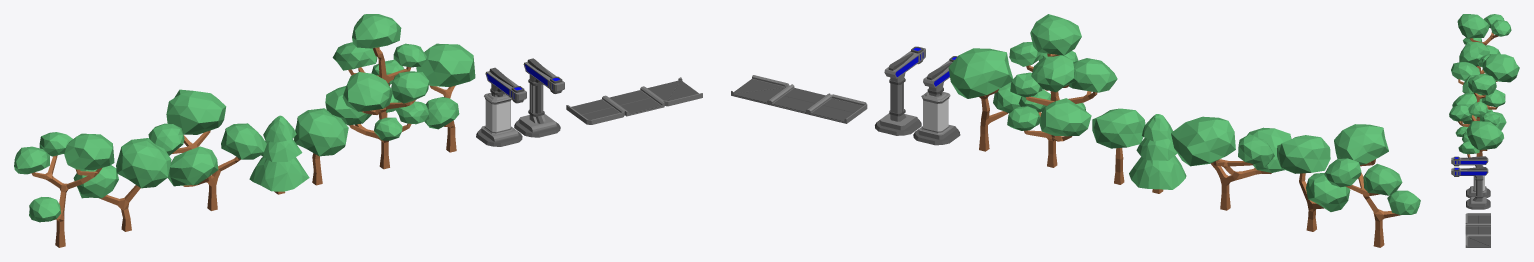
Rendered from LowPolyPack (2).fbx.
3 renders of one model, left to right at view 1: azimuth 30°, elevation 25°; view 2: azimuth 150°, elevation 25°; view 3: azimuth 270°, elevation 25°, orthographic. The views are drawn at different scales.
Parts seen in each view (by area): view 1: Plane.005, Plane.002, Plane.007, Plane.004, Plane.001, Plane.003, Plane.006, Cube.001, Cube.002, Cube.004, Cube, Cube.005 (+1 smaller); view 2: Plane.005, Plane.002, Plane.007, Plane.001, Plane.004, Plane.003, Plane.006, Cube.001, Cube.002, Cube.004, Cube.005, Cube (+1 smaller); view 3: Plane.005, Plane.002, Plane.007, Plane.001, Cube.001, Plane.004, Cube.002, Cube.005, Cube, Cube.004, Cube.003, Plane.006.
Part boxes in pixels (<box>): Plane.005: <box>325,14,429,169</box>; Plane.002: <box>148,89,266,210</box>; Plane.007: <box>14,132,114,247</box>; Plane.004: <box>73,138,171,231</box>; Plane.001: <box>416,43,475,152</box>; Plane.003: <box>249,115,309,194</box>; Plane.006: <box>293,108,348,185</box>; Cube.001: <box>514,58,564,137</box>; Cube.002: <box>476,67,526,146</box>; Cube.004: <box>566,96,624,124</box>; Cube: <box>605,86,664,116</box>; Cube.005: <box>643,77,702,106</box>; Plane.005: <box>1007,14,1117,167</box>; Plane.002: <box>1171,116,1291,210</box>; Plane.007: <box>1324,124,1420,247</box>; Plane.001: <box>948,48,1021,151</box>; Plane.004: <box>1277,135,1350,231</box>; Plane.003: <box>1129,114,1186,193</box>; Plane.006: <box>1092,108,1145,184</box>; Cube.001: <box>875,46,925,135</box>; Cube.002: <box>913,56,960,145</box>; Cube.004: <box>808,94,867,123</box>; Cube.005: <box>731,75,789,104</box>; Cube: <box>769,84,830,114</box>; Plane.005: <box>1449,73,1506,156</box>; Plane.002: <box>1451,54,1519,93</box>; Plane.007: <box>1457,14,1511,71</box>; Plane.001: <box>1458,121,1502,157</box>; Cube.001: <box>1451,167,1490,209</box>; Plane.004: <box>1459,42,1500,74</box>; Cube.002: <box>1451,156,1490,197</box>; Cube.005: <box>1465,234,1490,247</box>; Cube: <box>1465,224,1490,235</box>; Cube.004: <box>1465,213,1490,223</box>; Cube.003: <box>1473,175,1484,190</box>; Plane.006: <box>1462,101,1492,124</box>.
Bounding box in the file's own units: 6963 × 1496 × 1115.
